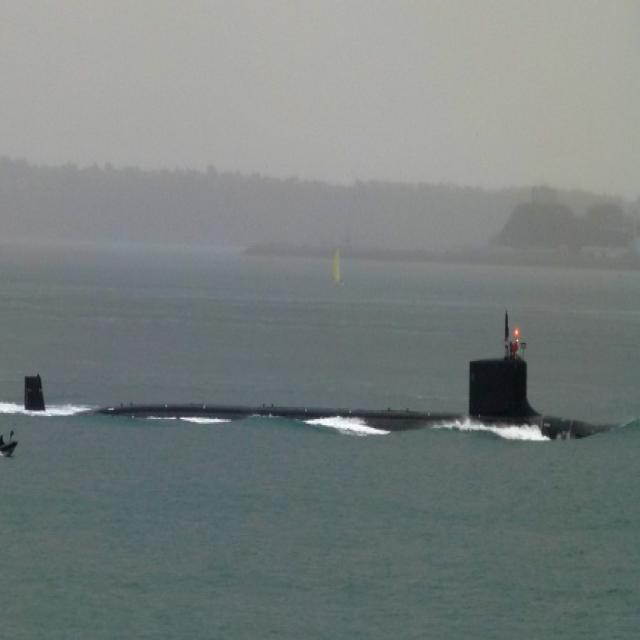submarine: (24, 351, 612, 440)
